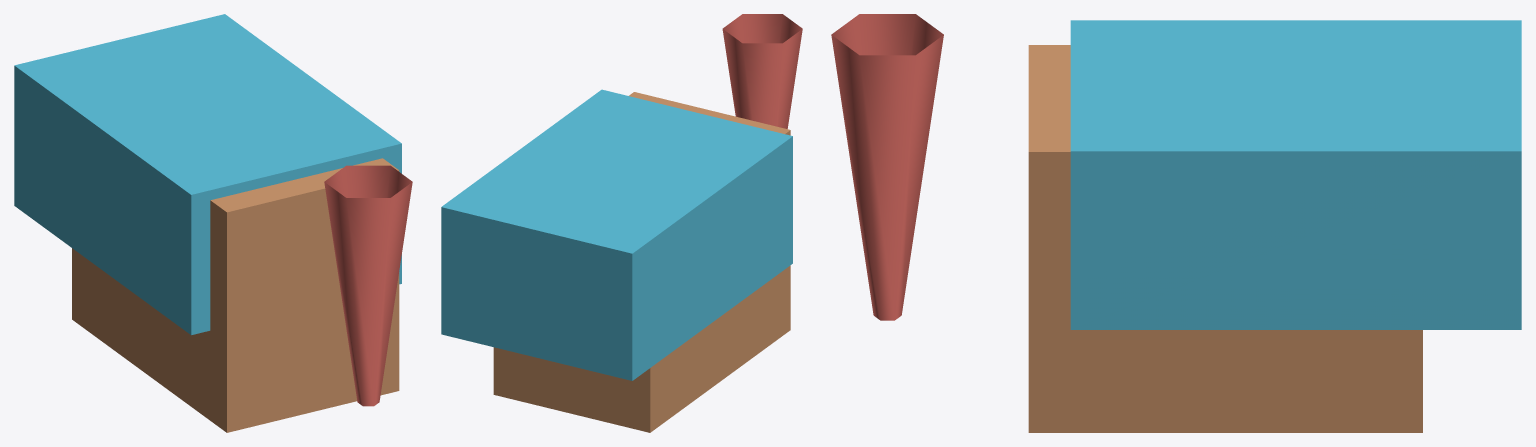
Rendered from kingfisher.glb.
3 renders of one model, left to right at view 1: azimuth 30°, elevation 25°; view 2: azimuth 150°, elevation 25°; view 3: azimuth 270°, elevation 25°, orthographic. The views are drawn at different scales.
Visible parts, largest first — view 1: Wings_Node, Chest_Node, LargeBeak_Node; view 2: Wings_Node, Chest_Node, LargeBeak_Node; view 3: Wings_Node, Chest_Node, LargeBeak_Node.
Part boxes in pixels (box(x1,y1,x2,y2)): Wings_Node: box(14, 14, 401, 335); Chest_Node: box(72, 158, 399, 432); LargeBeak_Node: box(324, 165, 412, 406); Wings_Node: box(441, 89, 792, 380); Chest_Node: box(493, 92, 790, 432); LargeBeak_Node: box(722, 14, 802, 128); Wings_Node: box(1070, 20, 1521, 329); Chest_Node: box(1028, 45, 1422, 432); LargeBeak_Node: box(831, 14, 943, 320).
Bounding box in the file's own units: 0.22 × 0.27 × 0.49.
